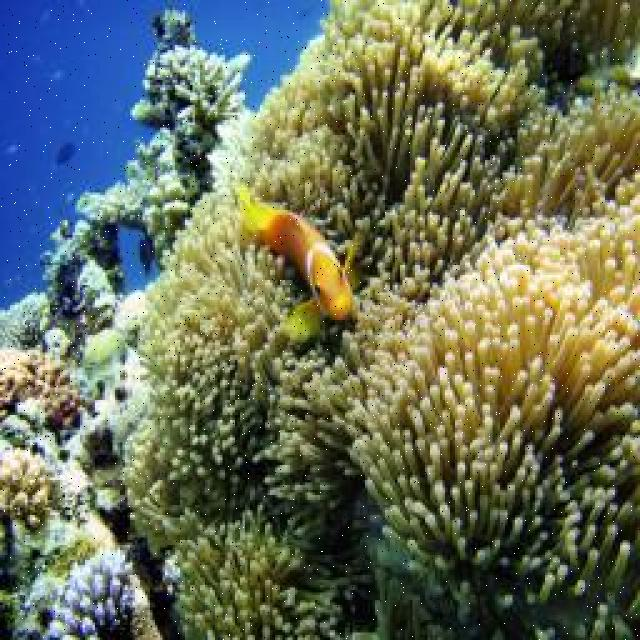fish: (232, 184, 369, 344)
reefs: (122, 0, 638, 638), (0, 12, 254, 638)
